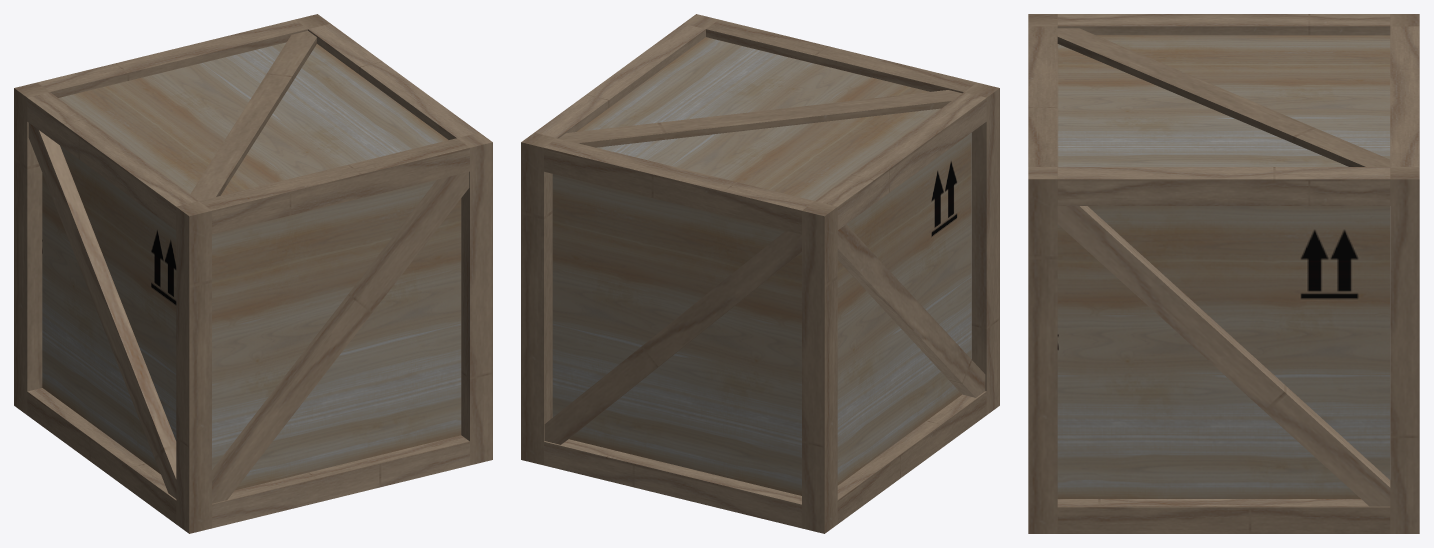
Rendered from Crate2Medium.fbx.
3 renders of one model, left to right at view 1: azimuth 30°, elevation 25°; view 2: azimuth 150°, elevation 25°; view 3: azimuth 270°, elevation 25°, orthographic. The views are drawn at different scales.
Parts seen in each view (by area): view 1: Crate2Medium; view 2: Crate2Medium; view 3: Crate2Medium.
Part boxes in pixels (x1,y1,x2,y2): Crate2Medium: (14, 14, 492, 533); Crate2Medium: (521, 14, 999, 533); Crate2Medium: (1028, 14, 1419, 533).
Size of the model in its own units: 1.6 by 1.6 by 1.6.
